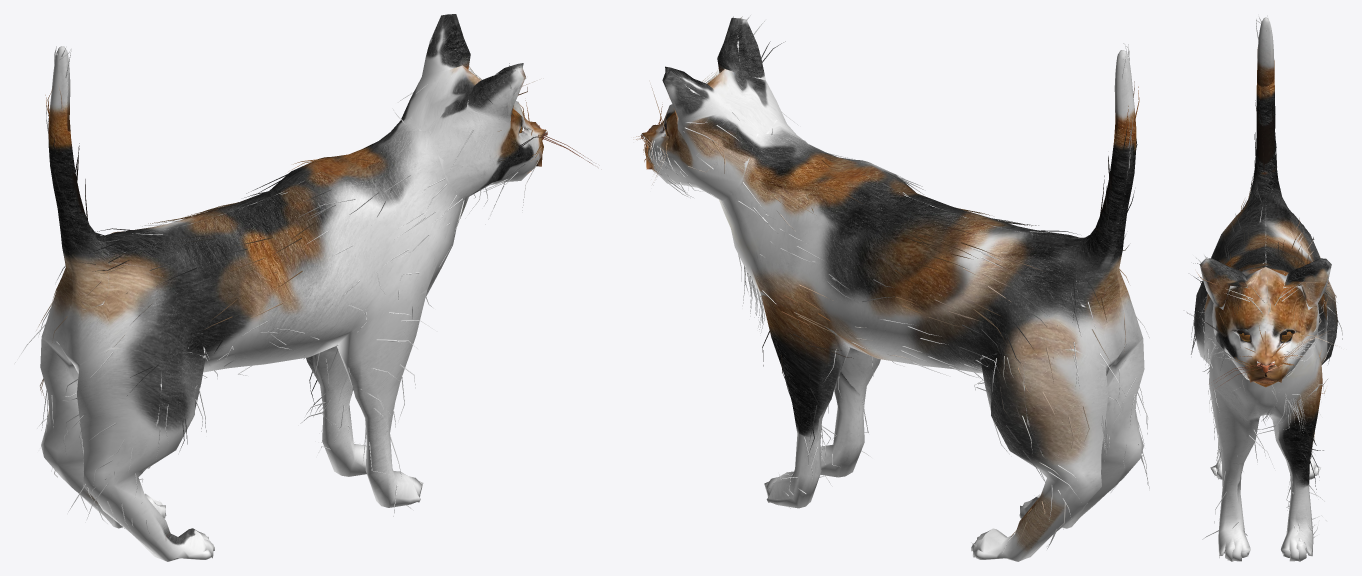
The model's file is cat-v2.glb.
3 views of the same model, side by side, from view 1: azimuth 30°, elevation 25°; view 2: azimuth 150°, elevation 25°; view 3: azimuth 270°, elevation 25° (orthographic). The views are drawn at different scales.
Parts seen in each view (by area): view 1: CalicoCatBody, CalicoCatOriginalGroom; view 2: CalicoCatBody, CalicoCatOriginalGroom; view 3: CalicoCatBody, CalicoCatOriginalGroom.
Boxes of the visible parts, box(x1,y1,x2,y2) form: CalicoCatBody: box(40, 14, 547, 561); CalicoCatOriginalGroom: box(15, 46, 592, 558); CalicoCatBody: box(641, 18, 1144, 561); CalicoCatOriginalGroom: box(633, 15, 1149, 553); CalicoCatBody: box(1193, 17, 1337, 561); CalicoCatOriginalGroom: box(1187, 15, 1342, 560).
Bounding box in the file's own units: 0.6501 × 0.6132 × 0.2228.
Materials: 3 (3 with a texture image).
